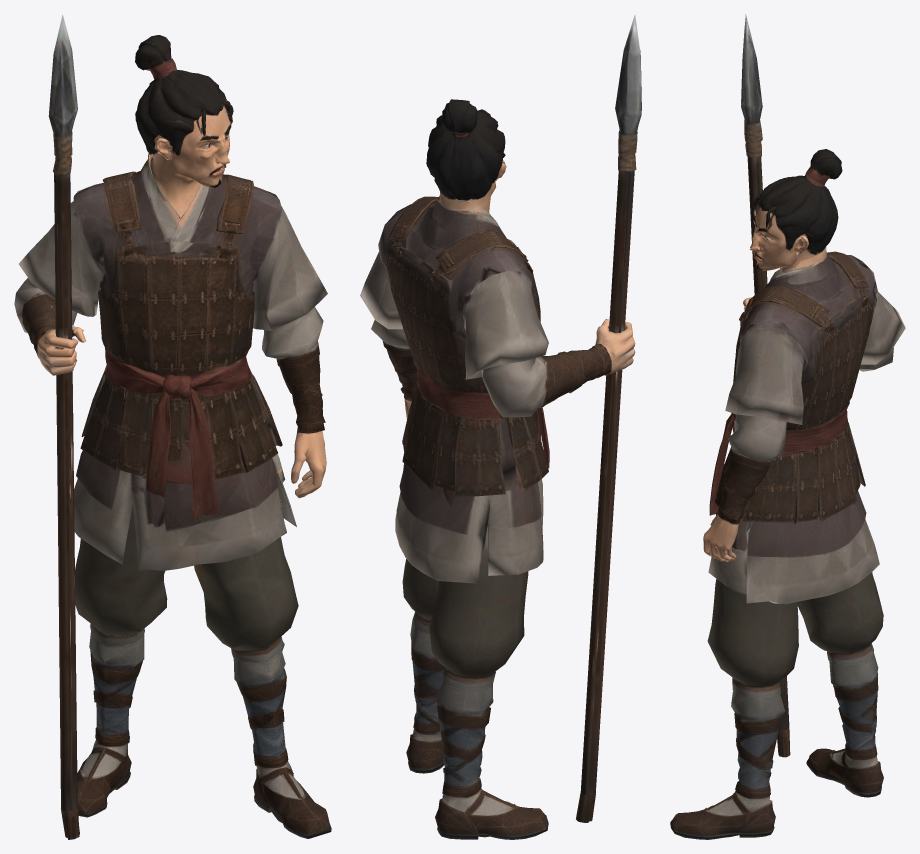
The model's file is soldier.glb.
The picture shows the model from 3 angles, left to right: view 1: azimuth 30°, elevation 25°; view 2: azimuth 150°, elevation 25°; view 3: azimuth 270°, elevation 25°; orthographic projection. The views are drawn at different scales.
Size of the model in its own units: 0.3262 by 0.9536 by 0.2798.
1 material, 1 textured.
